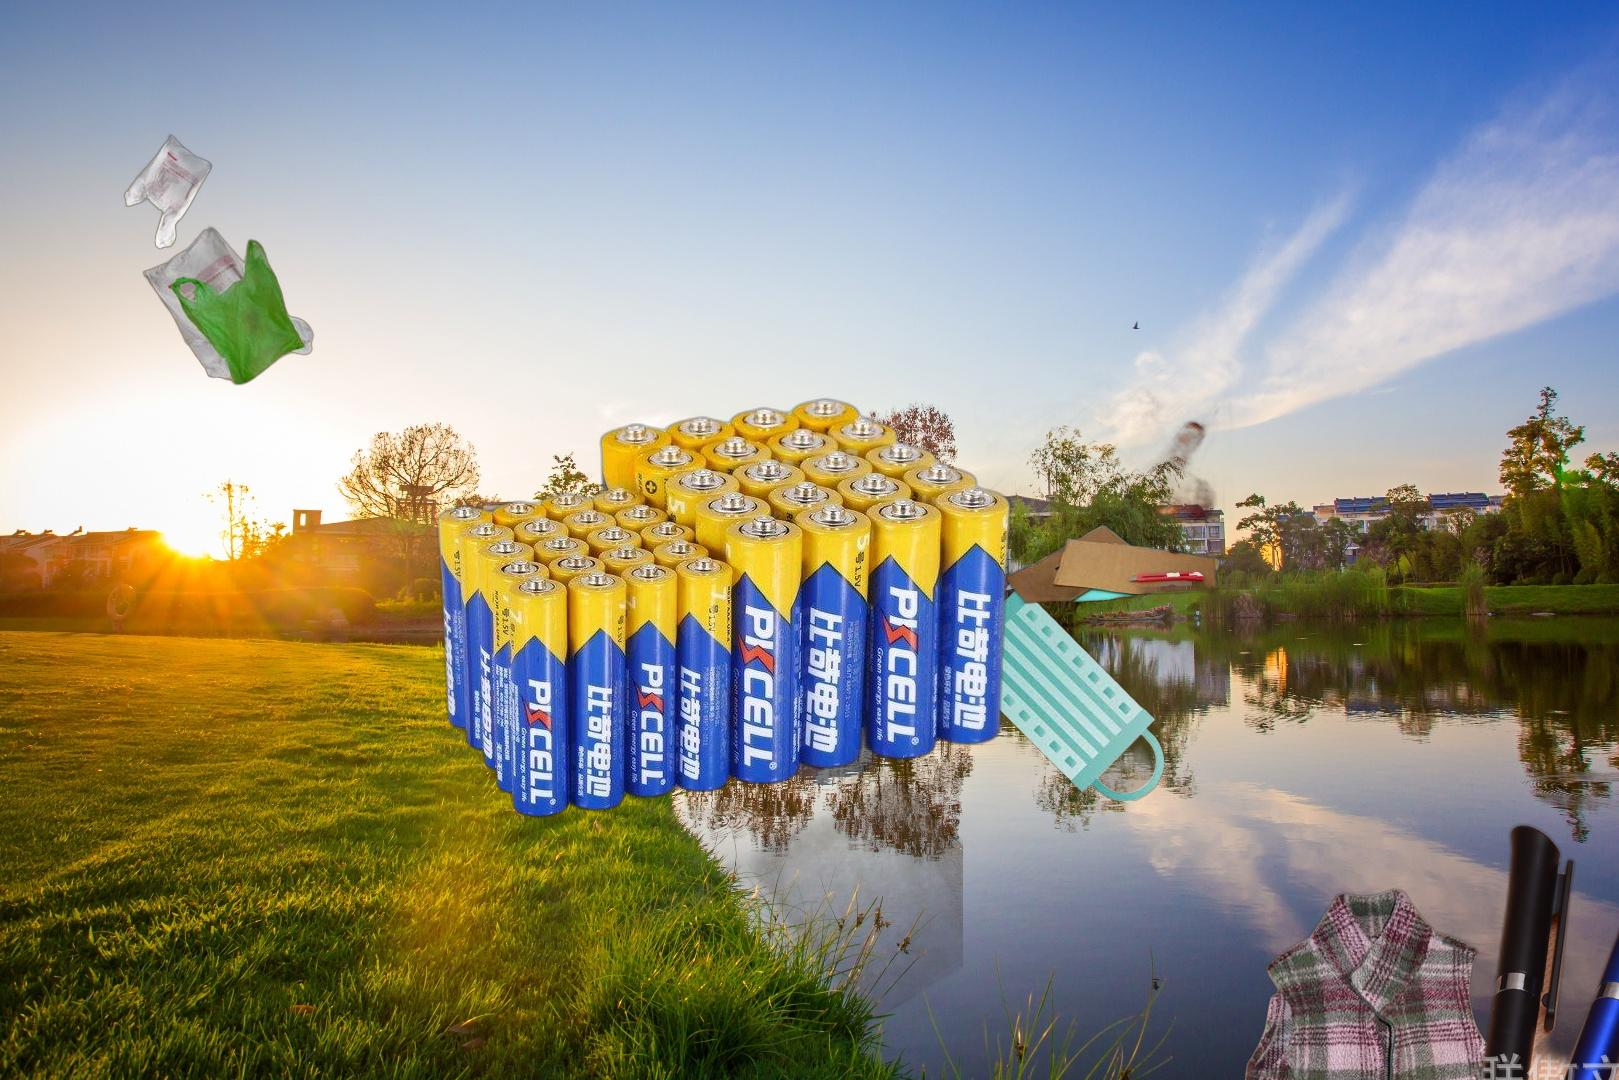battery: (432, 394, 1016, 822)
biological: (949, 356, 1248, 523)
clothes: (1227, 884, 1526, 1080)
glass: (451, 526, 963, 1080)
penholder: (1450, 753, 1619, 1080)
plastic-bag: (111, 117, 316, 387)
trash: (939, 577, 1165, 802)
trashbox-cardboard: (1001, 513, 1224, 606)
